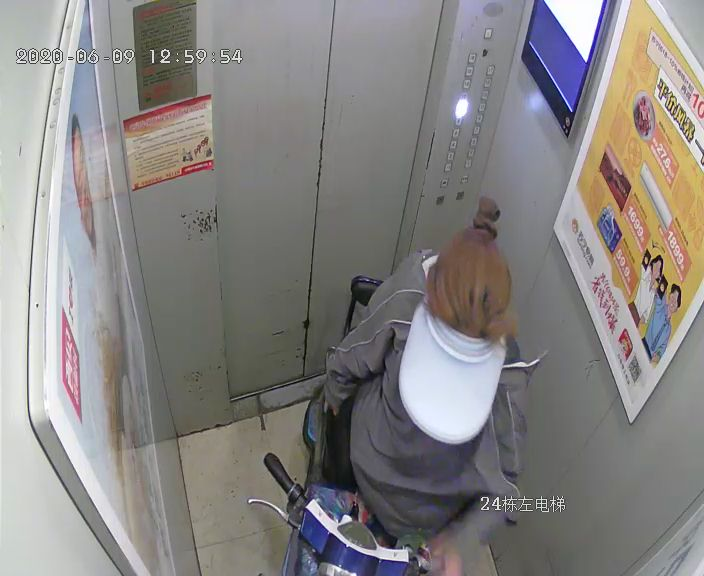Electric-bicycle: (242, 274, 448, 576)
